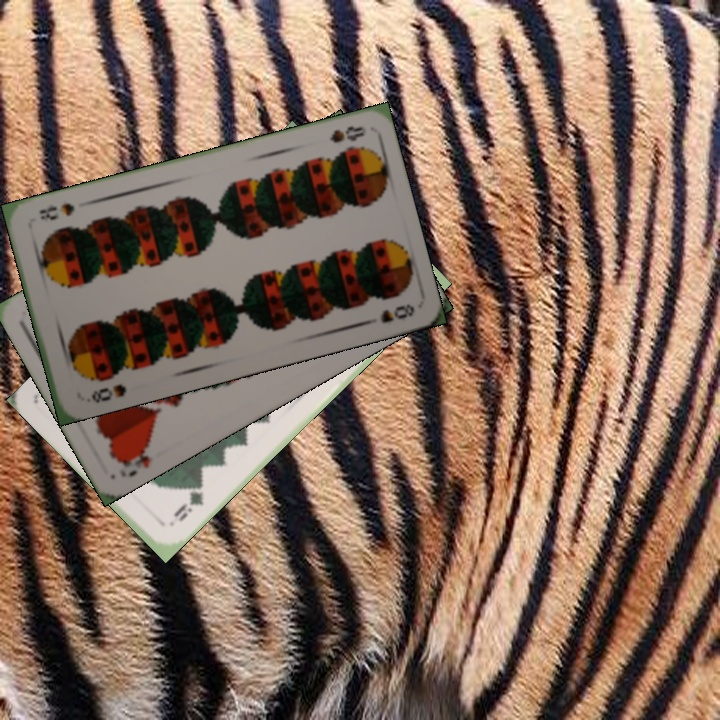G9: (169, 480, 207, 524)
HO: (114, 441, 154, 480)
S8: (87, 380, 129, 406), (325, 122, 369, 146)
